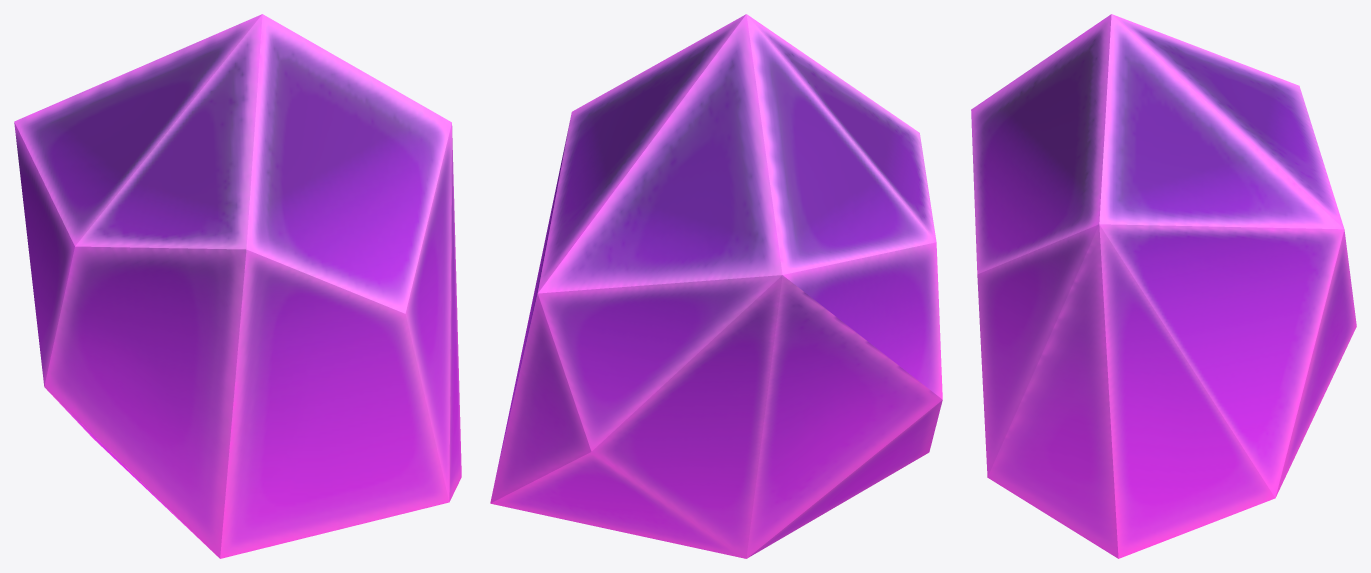
The model's file is crystal_piece_004.fbx.
3 views of the same model, side by side, from view 1: azimuth 30°, elevation 25°; view 2: azimuth 150°, elevation 25°; view 3: azimuth 270°, elevation 25° (orthographic). The views are drawn at different scales.
Visible parts, largest first — view 1: crystal_piece_004; view 2: crystal_piece_004; view 3: crystal_piece_004.
Boxes of the visible parts, x1,y1,x2,y2 form: crystal_piece_004: (14,14,461,558); crystal_piece_004: (490,14,942,558); crystal_piece_004: (971,14,1356,558).
Bounding box in the file's own units: 0.6343 × 0.76 × 0.5813.
